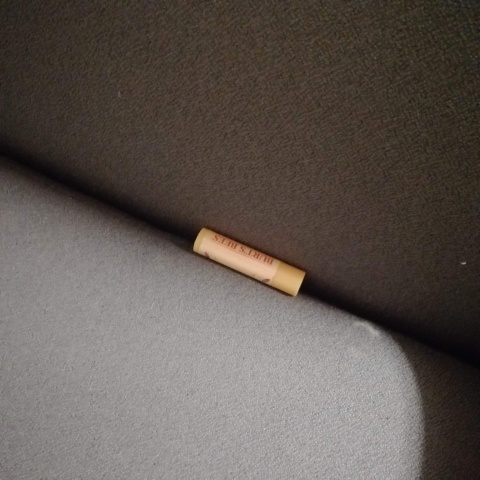chapstick: (190, 226, 307, 297)
